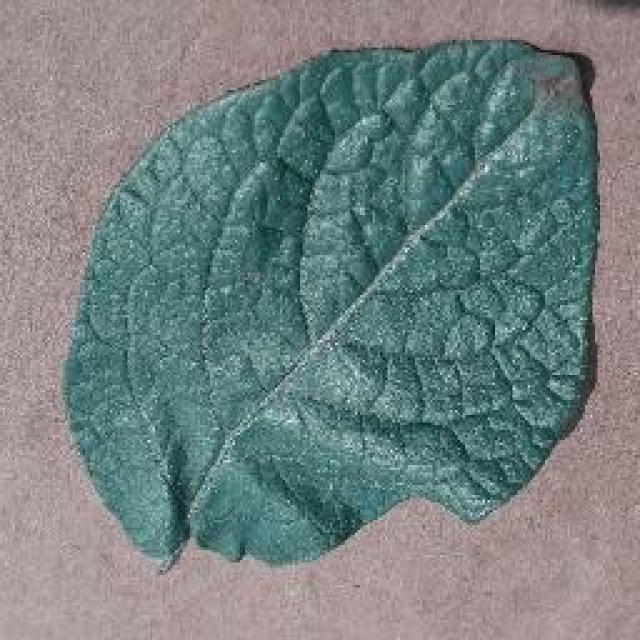Potato___healthy: (55, 33, 603, 579)
